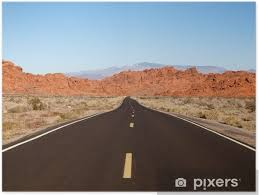strada: (2, 96, 248, 184)
